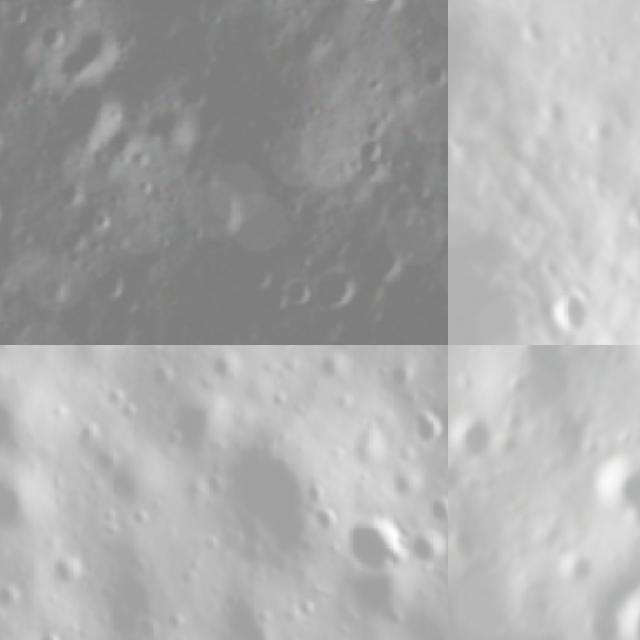crater: (220, 441, 320, 567), (448, 563, 555, 640), (55, 74, 123, 148), (532, 277, 603, 345), (581, 452, 640, 526), (65, 11, 118, 84), (342, 517, 404, 575), (351, 235, 416, 288), (211, 594, 282, 640), (169, 400, 223, 457), (302, 266, 358, 316), (448, 407, 497, 464), (0, 474, 39, 537), (0, 394, 37, 453), (606, 581, 640, 640), (94, 252, 126, 310), (611, 184, 640, 246), (309, 345, 355, 384), (408, 406, 448, 450), (425, 161, 448, 236), (408, 523, 448, 565), (386, 352, 420, 398), (550, 561, 594, 593), (575, 612, 623, 640), (448, 530, 481, 567), (280, 271, 316, 304), (495, 409, 529, 437), (506, 370, 533, 404), (421, 496, 448, 529), (448, 461, 462, 504), (347, 0, 385, 12), (0, 191, 8, 231), (545, 345, 579, 354), (37, 635, 64, 640)
